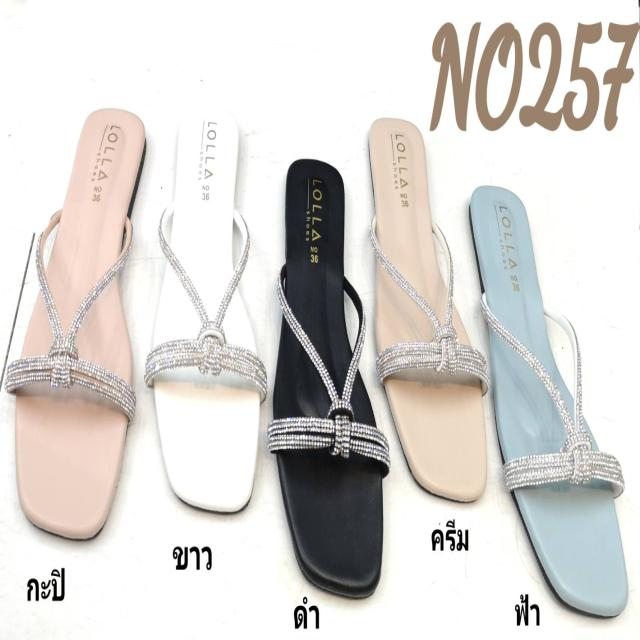black: (277, 160, 386, 595)
blue: (472, 183, 630, 621)
cream: (366, 111, 491, 502)
kapi: (19, 108, 144, 538)
white: (153, 106, 264, 512)
